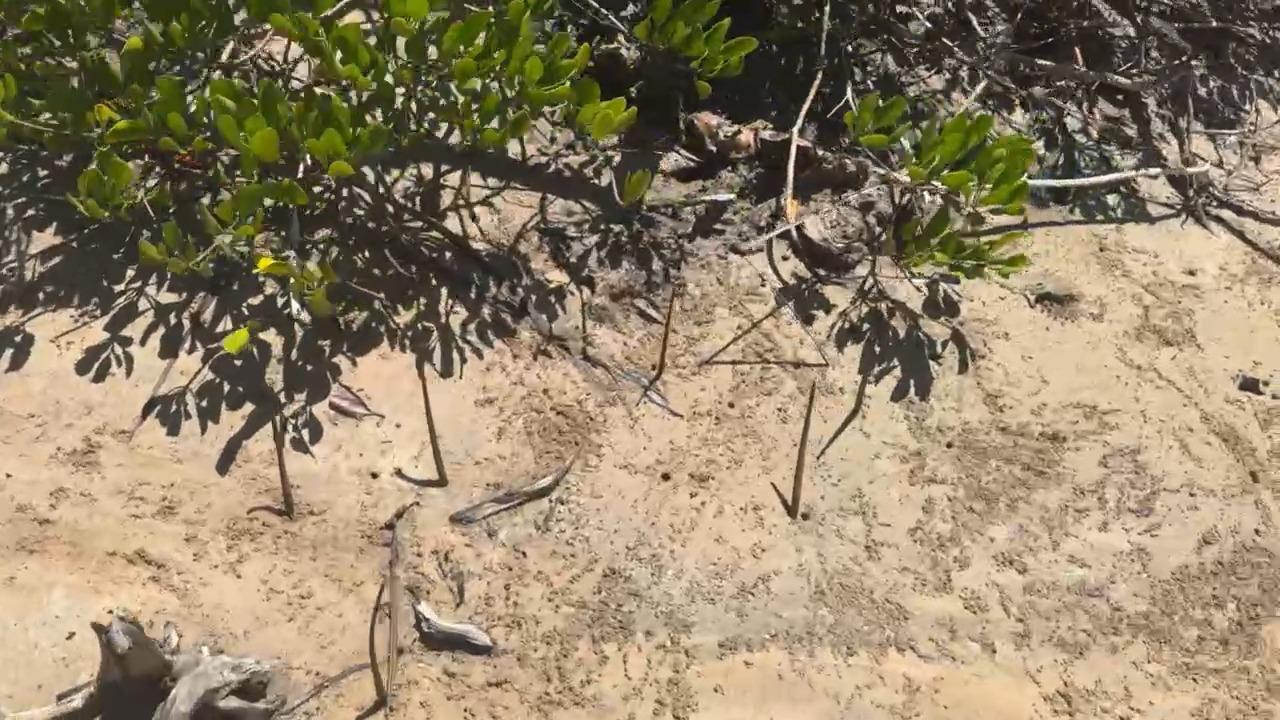Tree: (739, 250, 832, 367), (415, 362, 449, 487), (789, 379, 816, 521), (268, 397, 296, 517), (366, 582, 388, 701), (658, 286, 676, 375), (854, 375, 868, 410)
